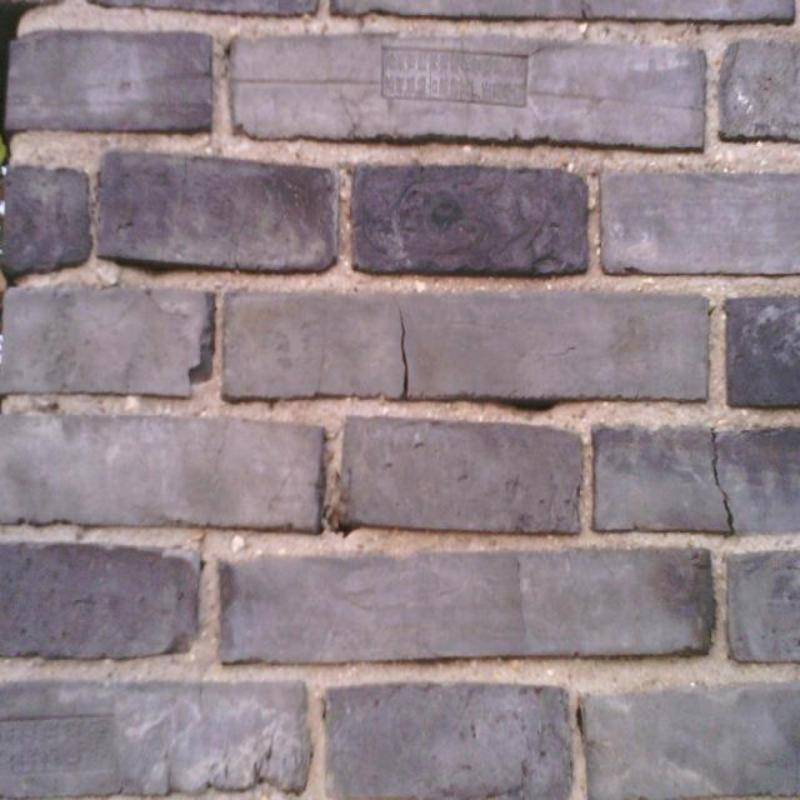crack: (711, 434, 738, 534), (397, 310, 411, 402), (515, 403, 554, 410)
